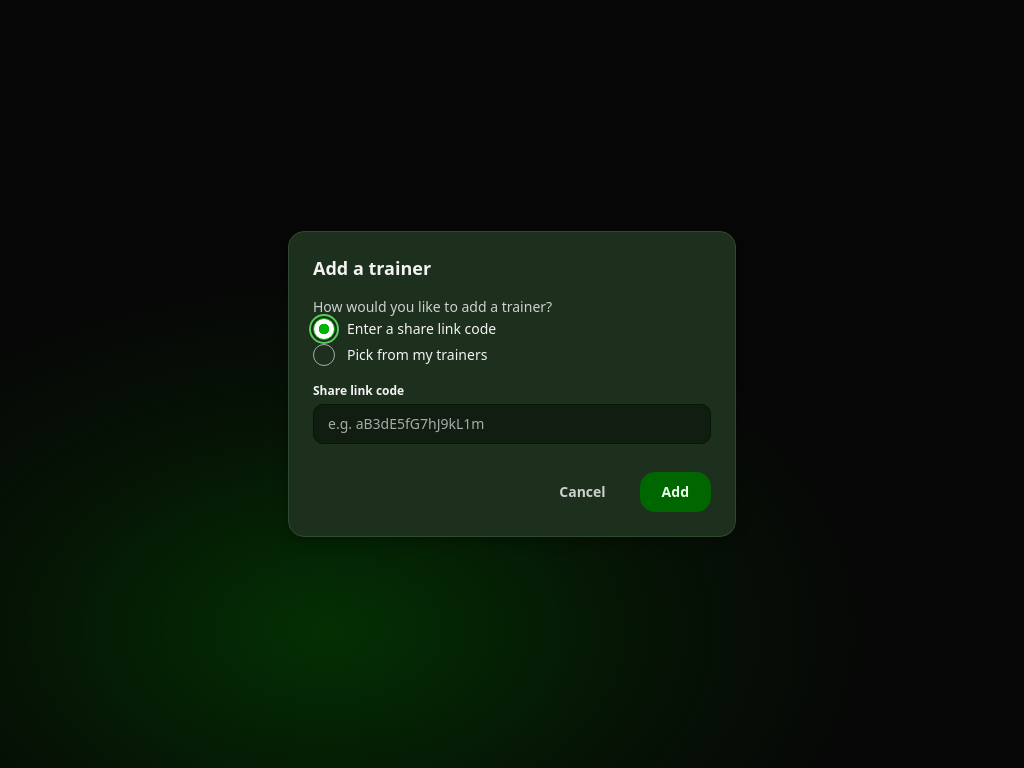
Test: AddTrainerModal › shows a generic error message on failure without closing
Type "BADCODE" into the field labelled "Share link code" at [512, 424], box [313,404,711,444]
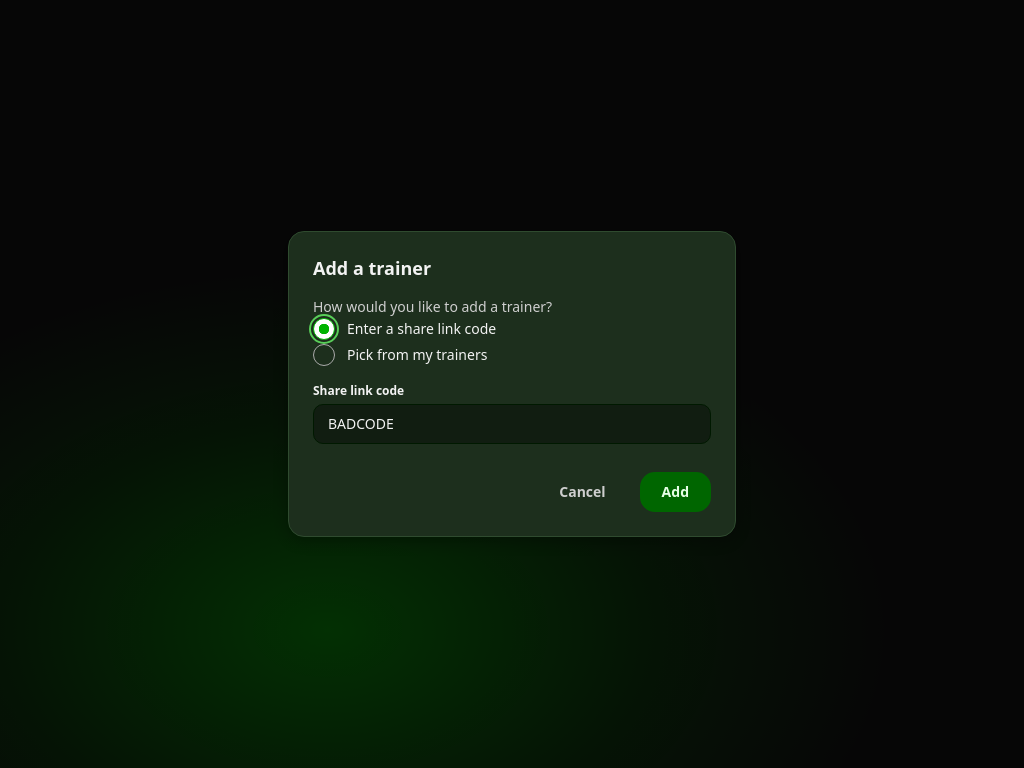
Click the button "Add" at [675, 492], box [640,472,711,512]
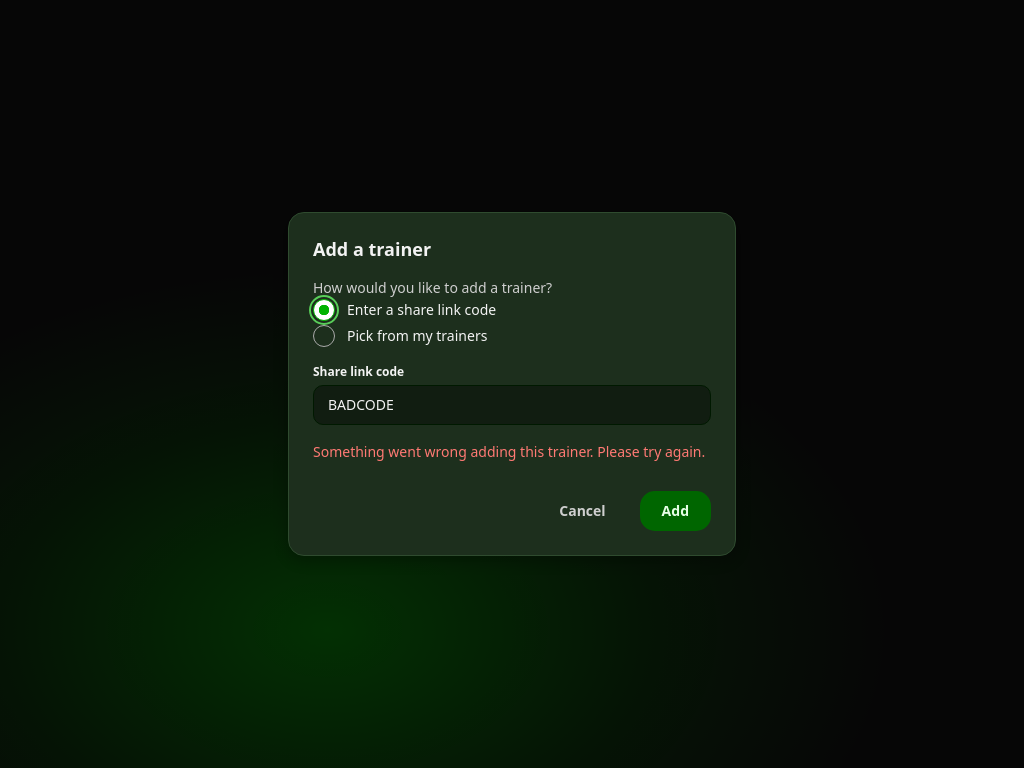
Check: the message "Something went wrong adding this trainer. Please try again." is shown, box [313,441,711,463]
